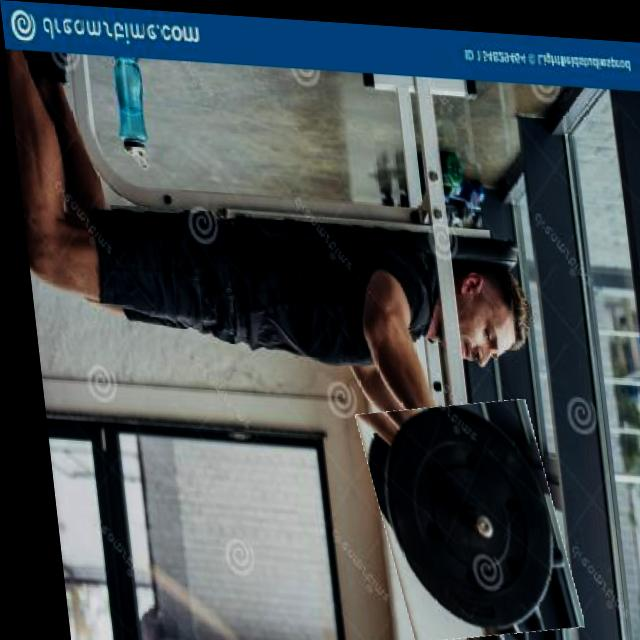barbell: (353, 391, 566, 640)
